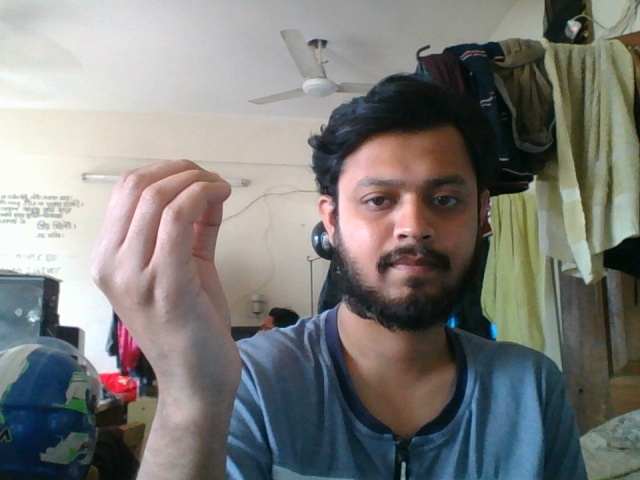oo: (85, 152, 247, 437)
